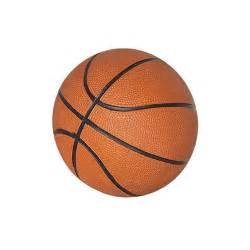basketball: (51, 48, 200, 199)
